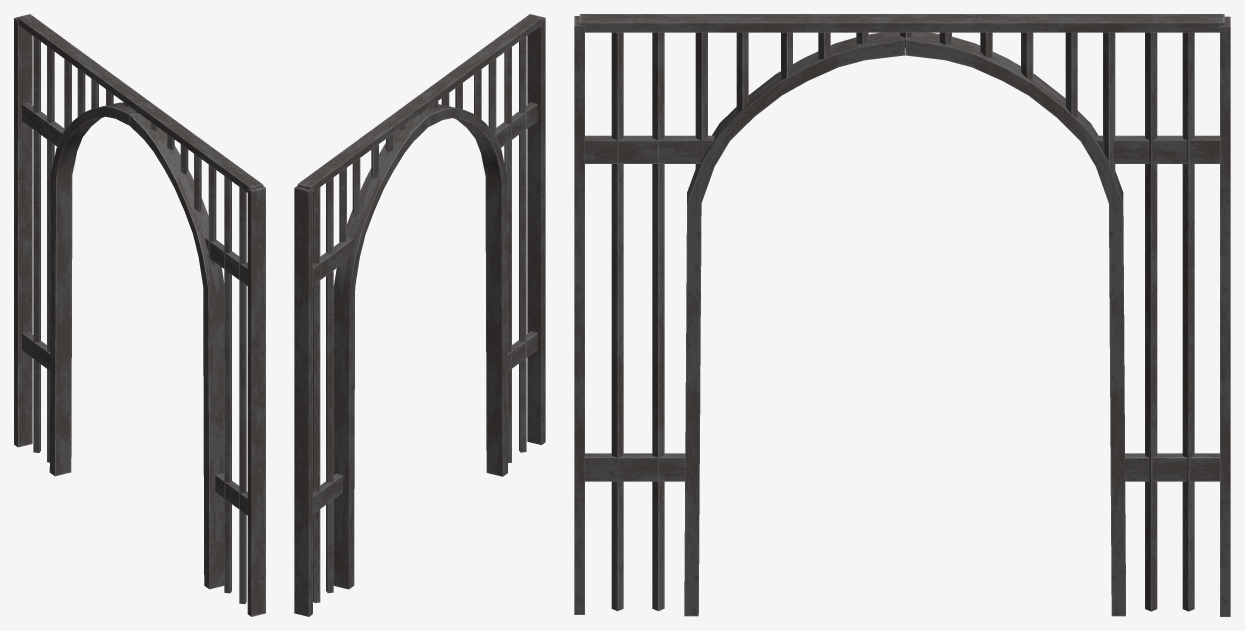
File: Prop_CageDoorway.fbx
3 renders of one model, left to right at view 1: azimuth 30°, elevation 25°; view 2: azimuth 150°, elevation 25°; view 3: azimuth 270°, elevation 25°, orthographic. The views are drawn at different scales.
Visible parts, largest first — view 1: CDTMesh_CageDoorway; view 2: CDTMesh_CageDoorway; view 3: CDTMesh_CageDoorway.
Part boxes in pixels (bbox=[...]): CDTMesh_CageDoorway: bbox=[14, 14, 265, 616]; CDTMesh_CageDoorway: bbox=[294, 14, 545, 616]; CDTMesh_CageDoorway: bbox=[574, 14, 1230, 616].
Size of the model in its own units: 0.1663 by 4.06 by 4.07.
1 material, 1 textured.
